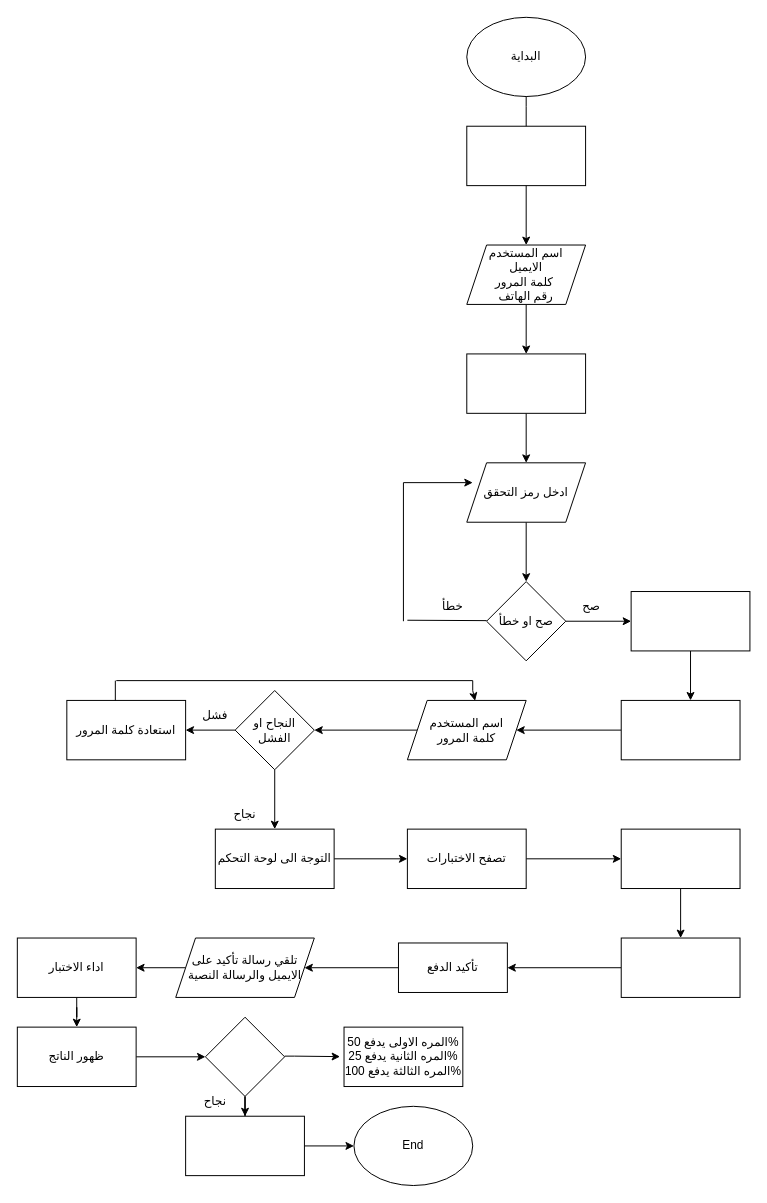
The diagram is 767 pixels wide and 1203 high, and some of its shapes have lost their labels. Each missing label, with the centre of its shape:
"اختبار الاختبار" goes at (x=680, y=858).
"اصدار الشهادة" goes at (x=244, y=1145).
"التوجه الى صفحة السداد" goes at (x=680, y=967).
"انشاء حساب" goes at (x=526, y=155).
"تسجيل الدخول" goes at (x=680, y=729).
"تفعيل الحساب" goes at (x=690, y=621).
"رمز التحقق" goes at (x=526, y=383).
"نجاح او رسوب" goes at (x=244, y=1056).
